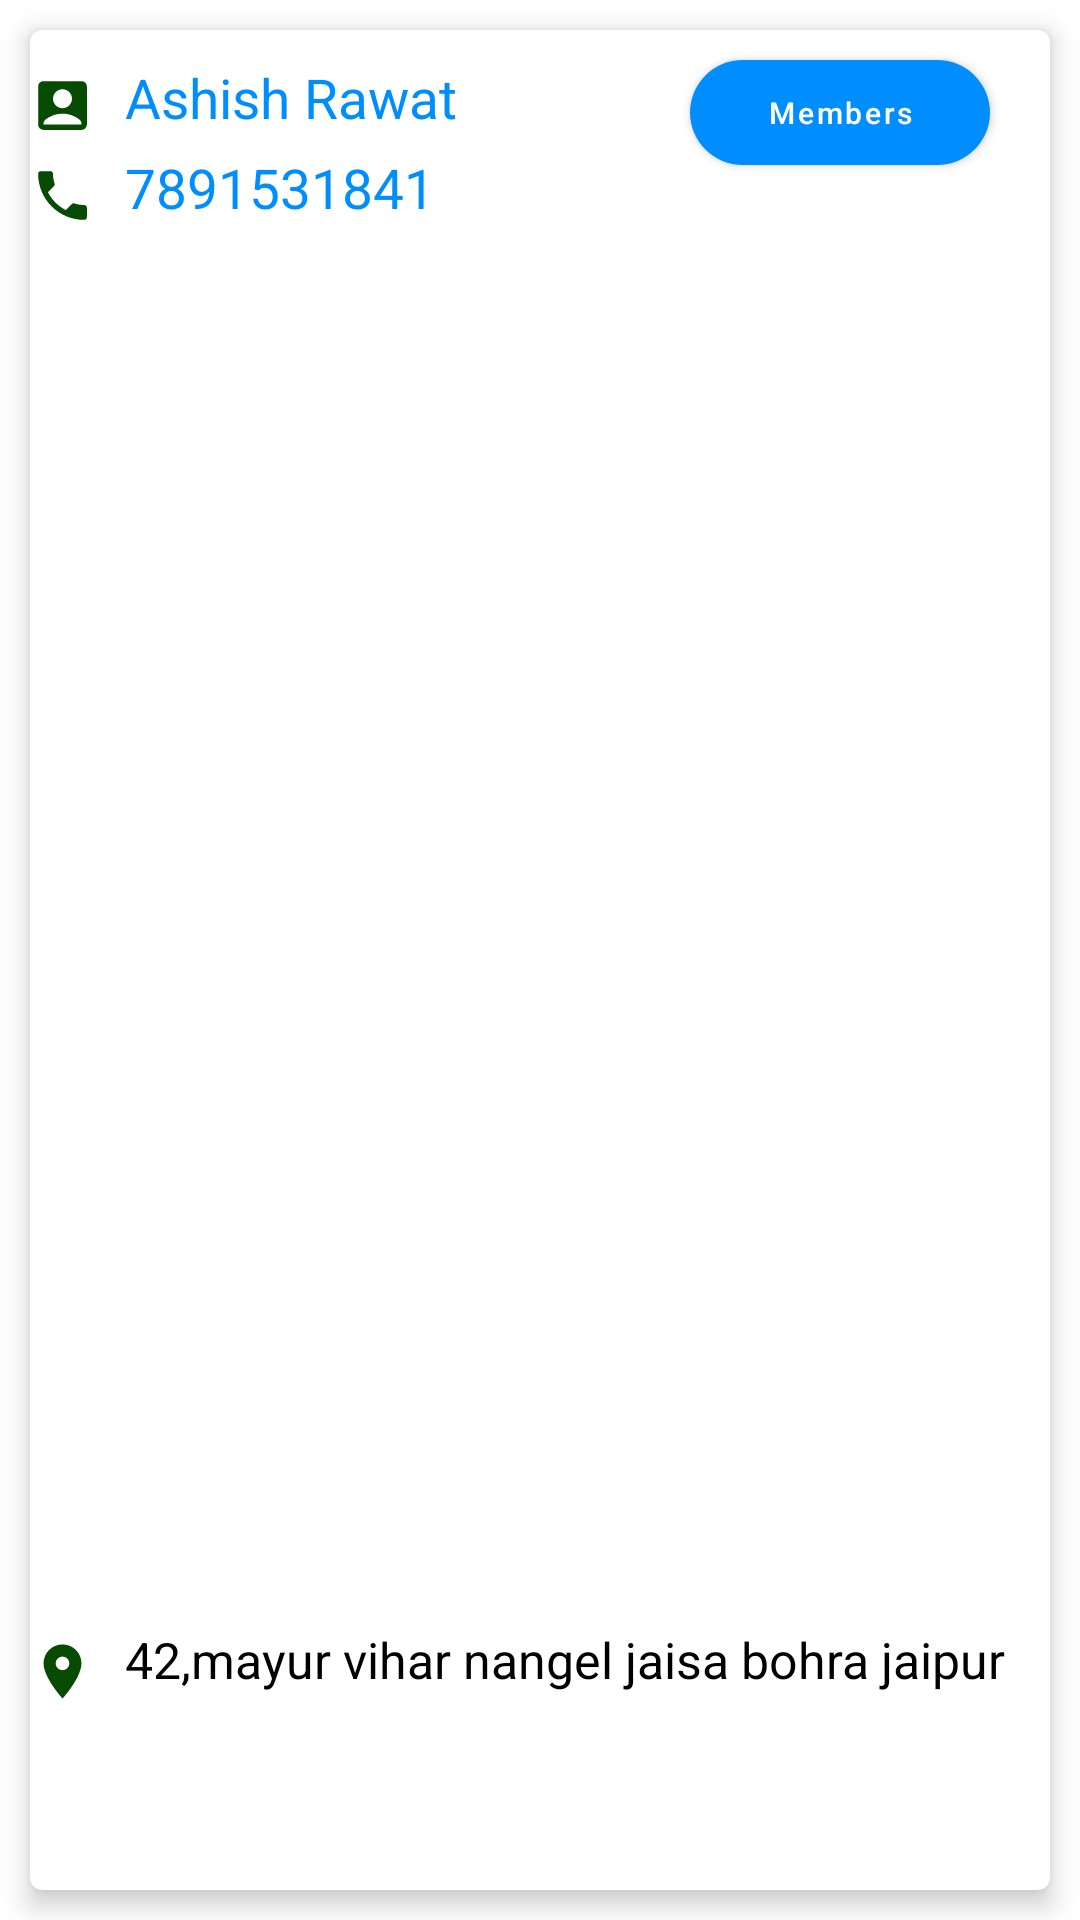

Named icons in this screenshot (1080px x 1920px) and their centers, point (x, y):
call: point (62, 195)
location: point (62, 1671)
